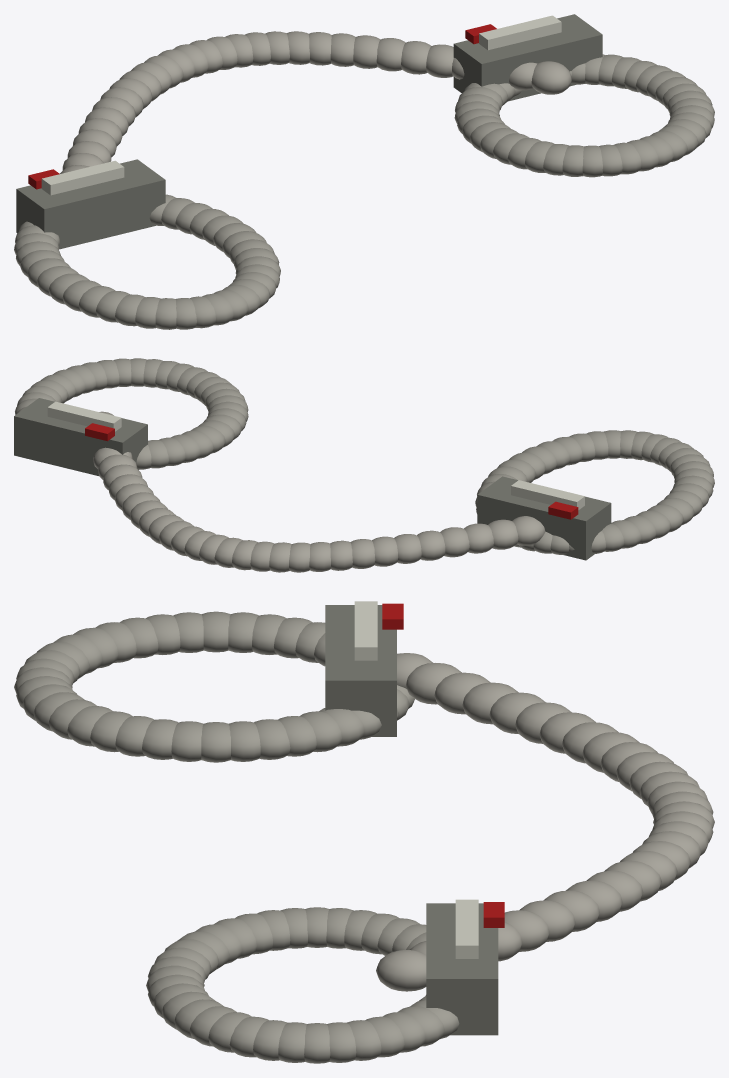
The model's file is CMU3DSteelHandcuffs.glb.
3 views of the same model, one above another, from view 1: azimuth 30°, elevation 25°; view 2: azimuth 150°, elevation 25°; view 3: azimuth 270°, elevation 25° (orthographic). The views are drawn at different scales.
Parts seen in each view (by area): view 1: curved connecting chain (×26), open steel cuff ring (×28), cuff lock body (×2), lock raised clasp (×2); view 2: curved connecting chain (×27), open steel cuff ring (×34), cuff lock body (×2), lock raised clasp (×2), red lock tab (×2); view 3: open steel cuff ring (×44), curved connecting chain (×23), cuff lock body (×2), lock raised clasp (×2).
Part boxes in pixels (<box>): curved connecting chain (×26): <box>67,31,571,163</box>; open steel cuff ring (×28): <box>27,54,674,329</box>; cuff lock body (×2): <box>16,14,602,249</box>; lock raised clasp (×2): <box>41,15,561,195</box>; curved connecting chain (×27): <box>98,454,545,572</box>; open steel cuff ring (×34): <box>53,358,713,551</box>; cuff lock body (×2): <box>14,398,611,560</box>; lock raised clasp (×2): <box>47,401,584,509</box>; red lock tab (×2): <box>85,423,578,519</box>; open steel cuff ring (×44): <box>33,611,444,1063</box>; curved connecting chain (×23): <box>376,663,708,991</box>; cuff lock body (×2): <box>325,605,498,1035</box>; lock raised clasp (×2): <box>354,601,478,958</box>.
Size of the model in its own units: 0.633 by 0.0512 by 0.43.
